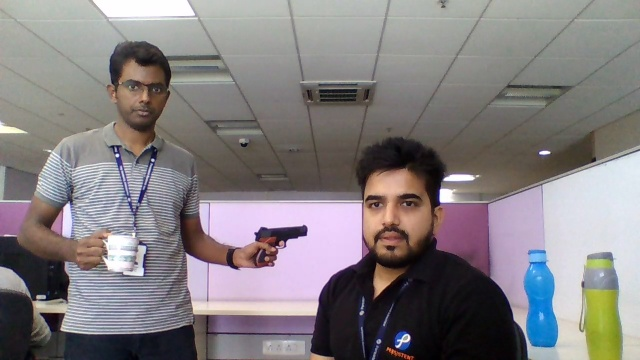gun: (252, 224, 308, 238)
